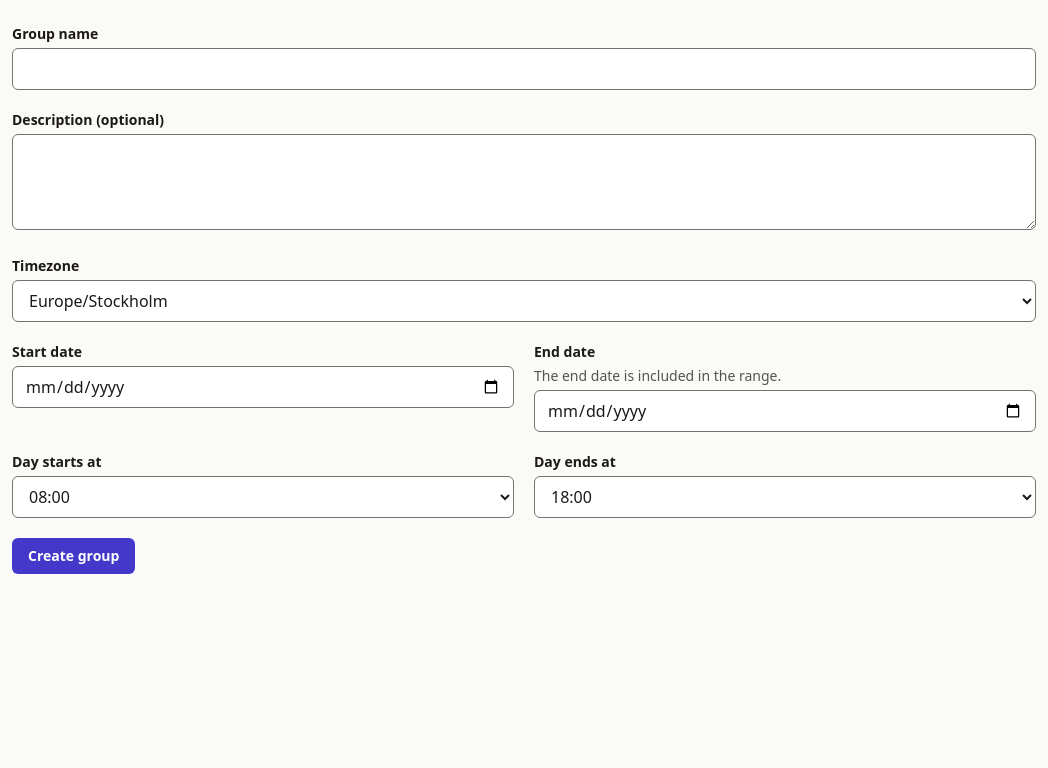
CreateGroupForm › places a validation_failed field error at its field and the rest at form level
Type "Algorithms study group" into the field labelled "Group name" at (524,69), box [12,48,1036,90]
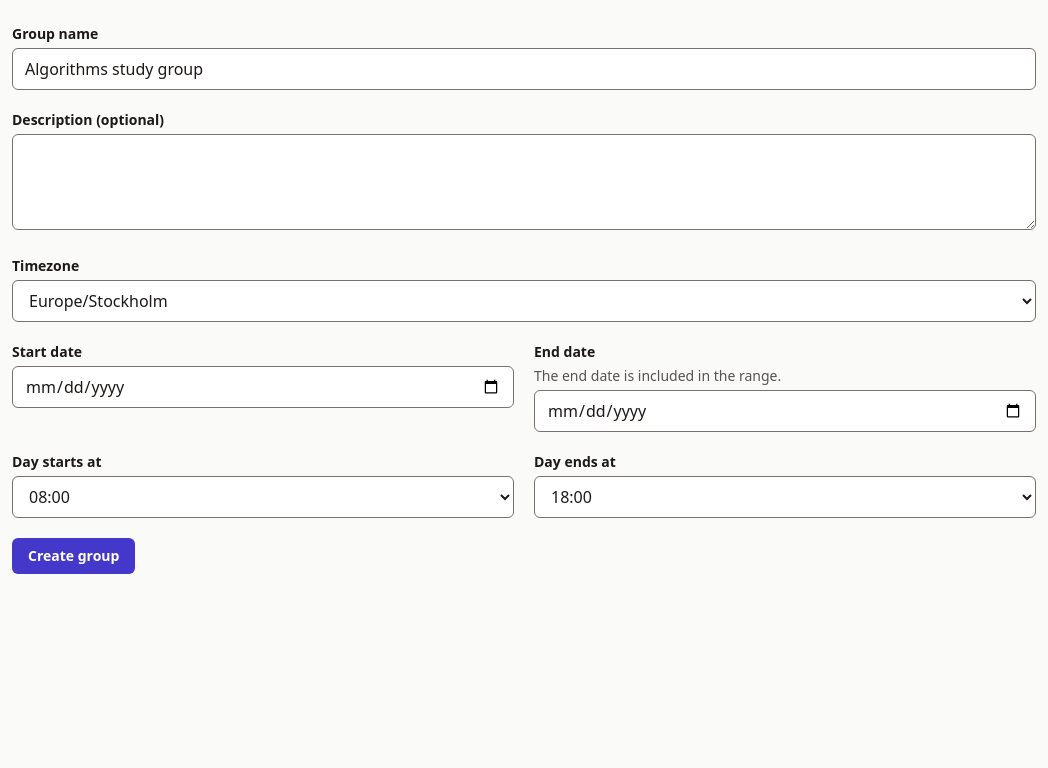
Type "2026-10-01" into the date field labelled "Start date" at (263,387), box [12,366,514,408]
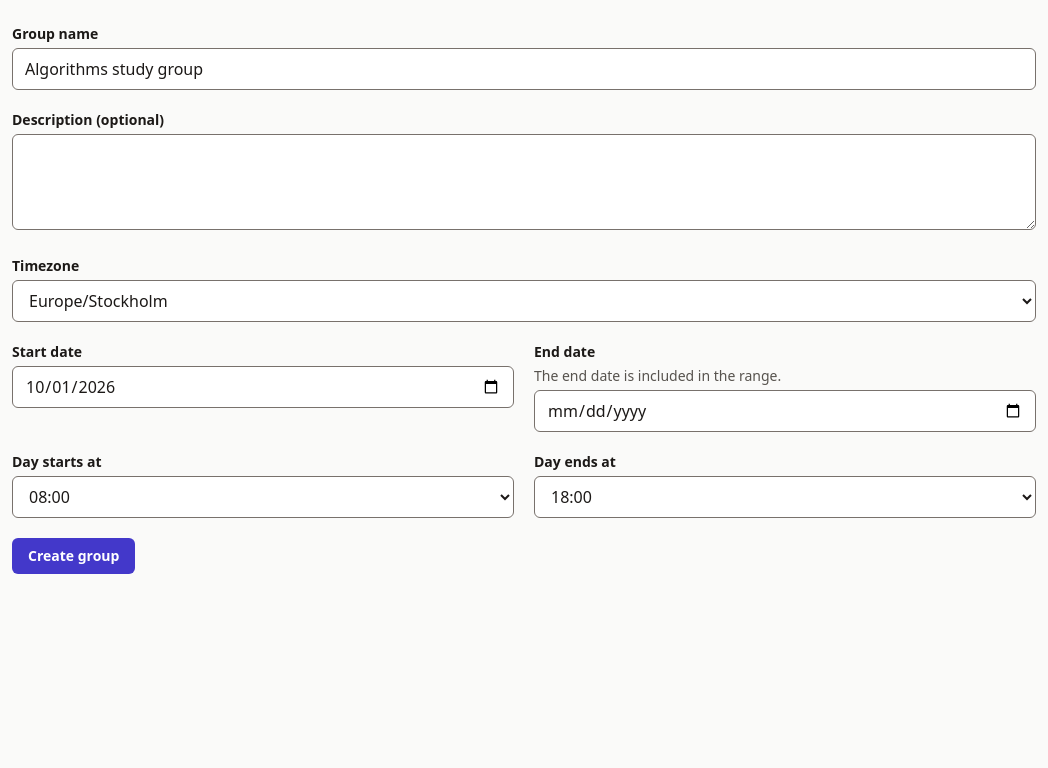
Type "2026-10-05" into the date field labelled "End date" at (785,411), box [534,390,1036,432]
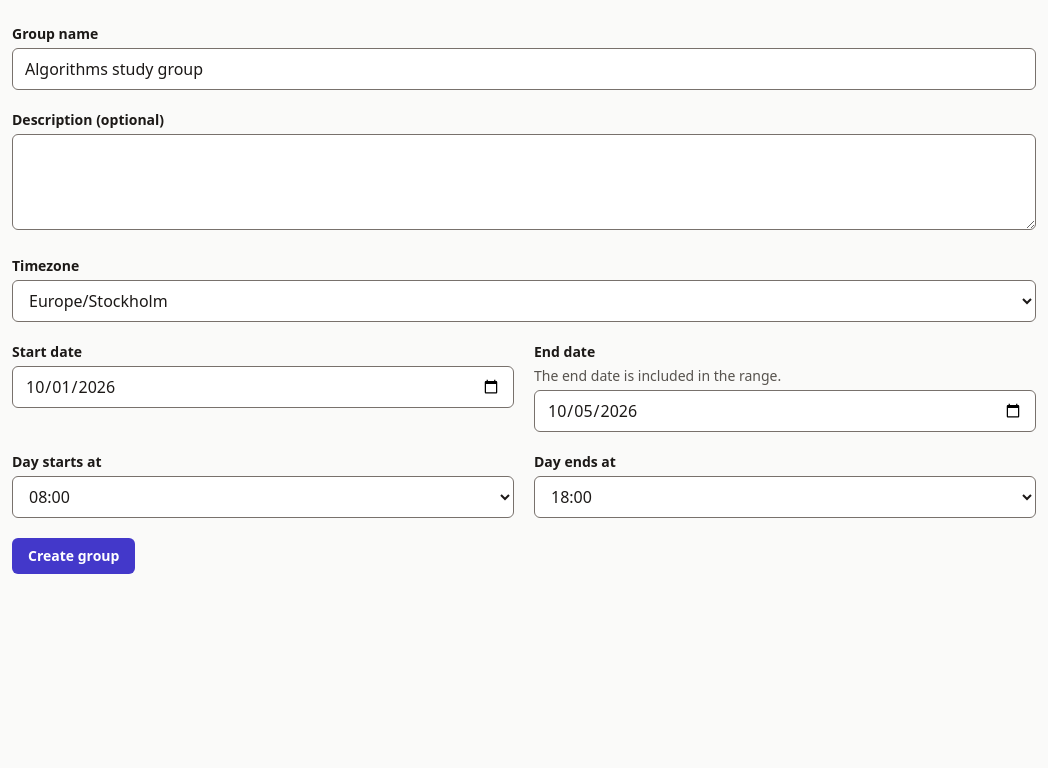
Click the button "Create group" at (74,556), box [12,538,135,574]
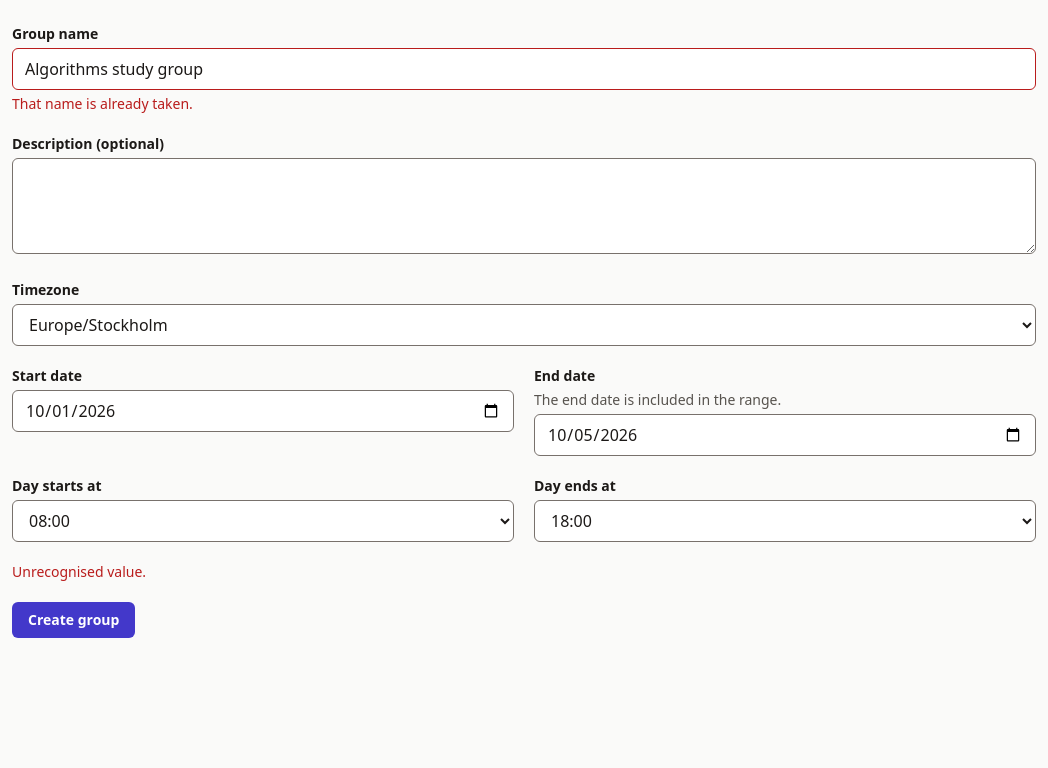
Expected: the list item "Unrecognised value." is shown, [12,562,146,581]
